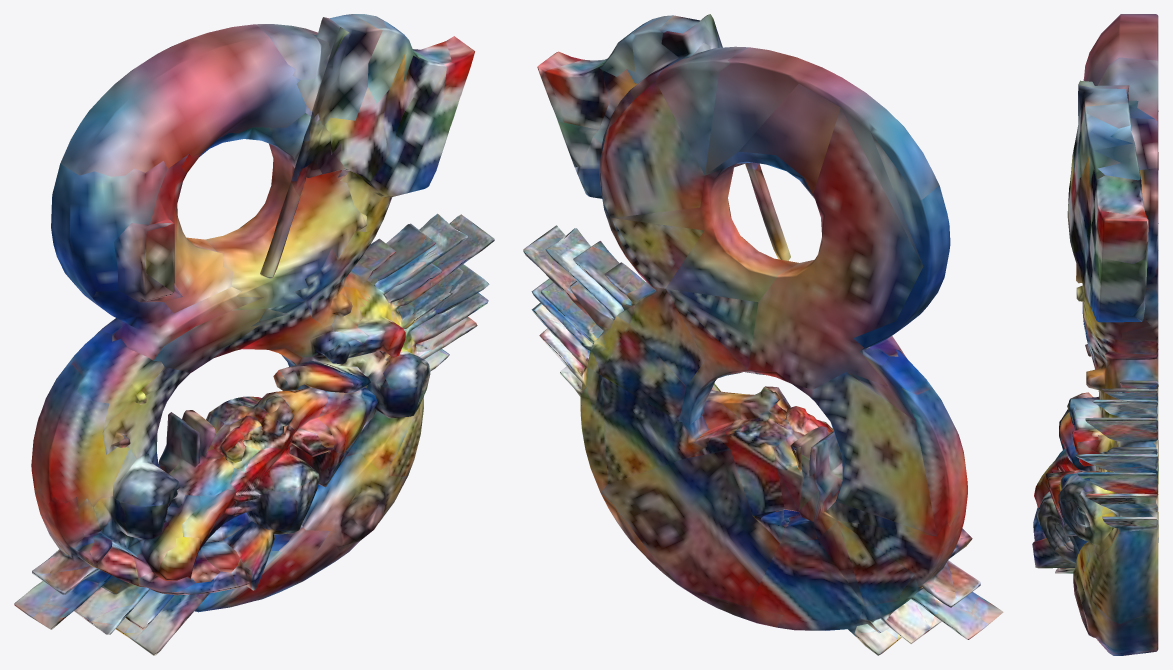
3 views of the same model, side by side, from view 1: azimuth 30°, elevation 25°; view 2: azimuth 150°, elevation 25°; view 3: azimuth 270°, elevation 25° (orthographic). The views are drawn at different scales.
Size of the model in its own units: 0.4595 by 0.5564 by 0.1066.
1 material, 1 textured.
